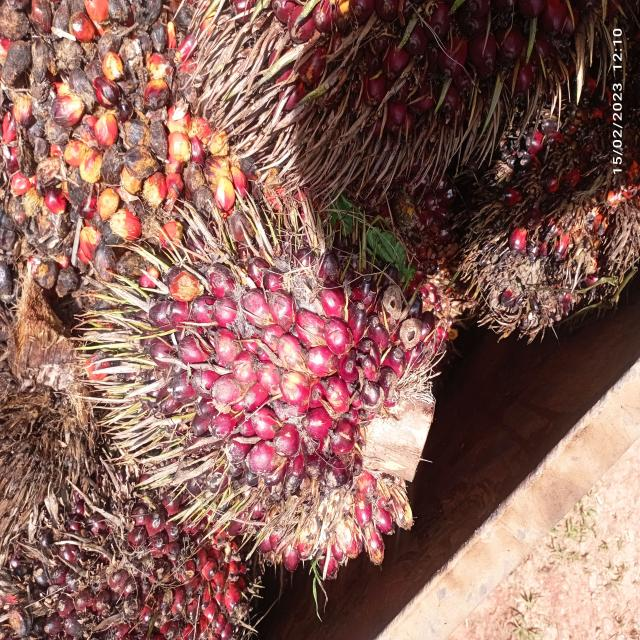fraksi 1: (60, 144, 491, 602)
